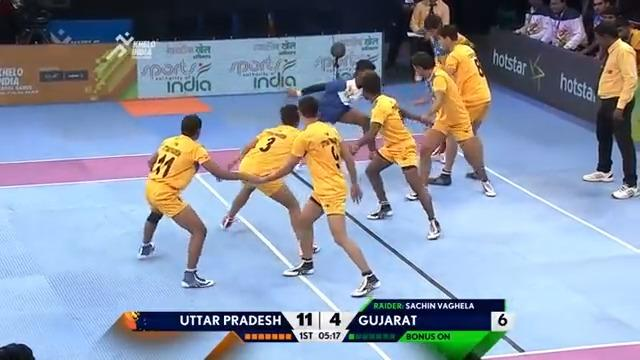Player: (263, 95, 381, 297), (136, 112, 271, 288), (346, 70, 441, 239), (218, 103, 320, 255), (405, 50, 496, 200), (581, 18, 638, 199)
Raider: (286, 58, 381, 157)
referee: (407, 0, 450, 82), (381, 0, 407, 70)
